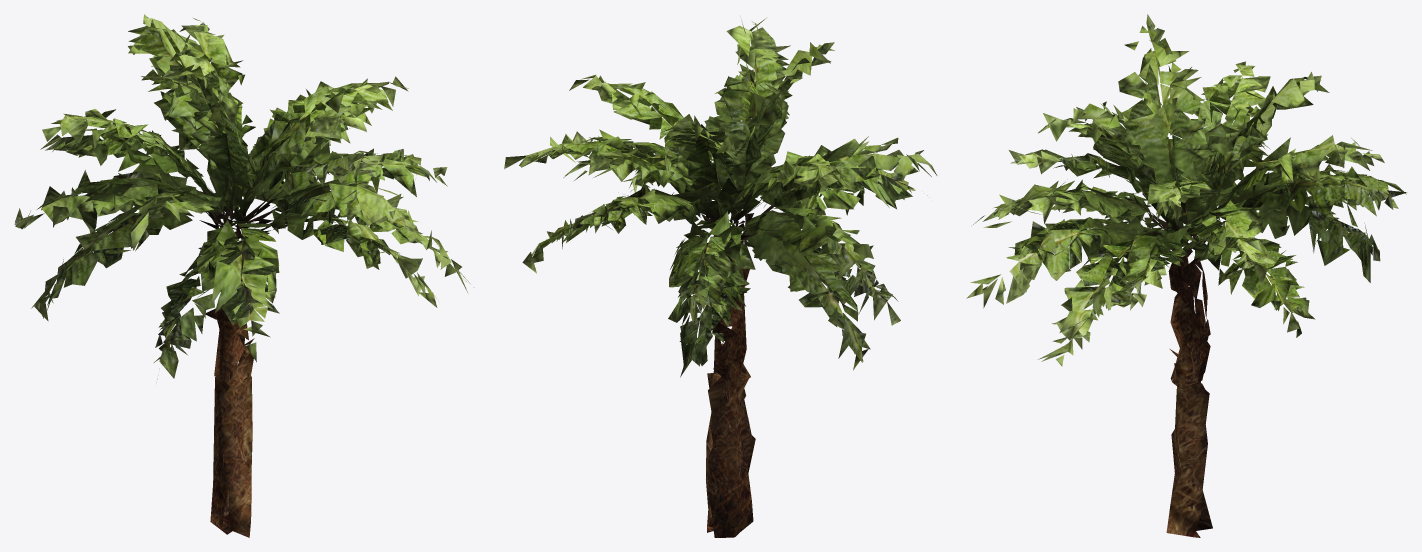
The model's file is tree_fern_LOD2.fbx.
3 renders of one model, left to right at view 1: azimuth 30°, elevation 25°; view 2: azimuth 150°, elevation 25°; view 3: azimuth 270°, elevation 25°, orthographic. The views are drawn at different scales.
Parts seen in each view (by area): view 1: tree_fern.001; view 2: tree_fern.001; view 3: tree_fern.001.
Part boxes in pixels (bbox=[...]): tree_fern.001: bbox=[14, 14, 473, 537]; tree_fern.001: bbox=[504, 18, 937, 537]; tree_fern.001: bbox=[966, 14, 1406, 537].
Size of the model in its own units: 3.11 by 4.05 by 3.38.
Materials: 1 (1 with a texture image).
